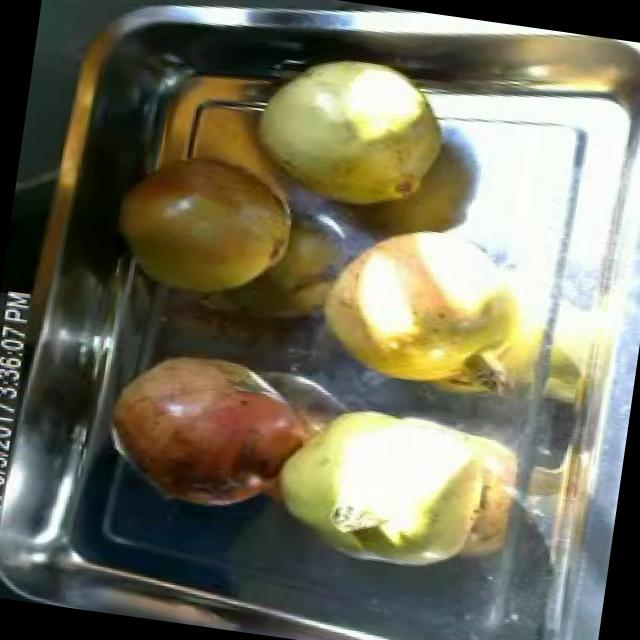fruit: (248, 378, 528, 600), (289, 200, 545, 415), (90, 332, 332, 528), (229, 40, 463, 228), (101, 135, 315, 320)
